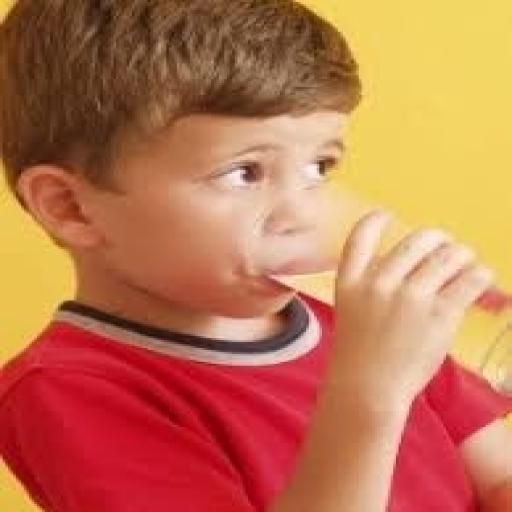drinking: (0, 0, 509, 510)
